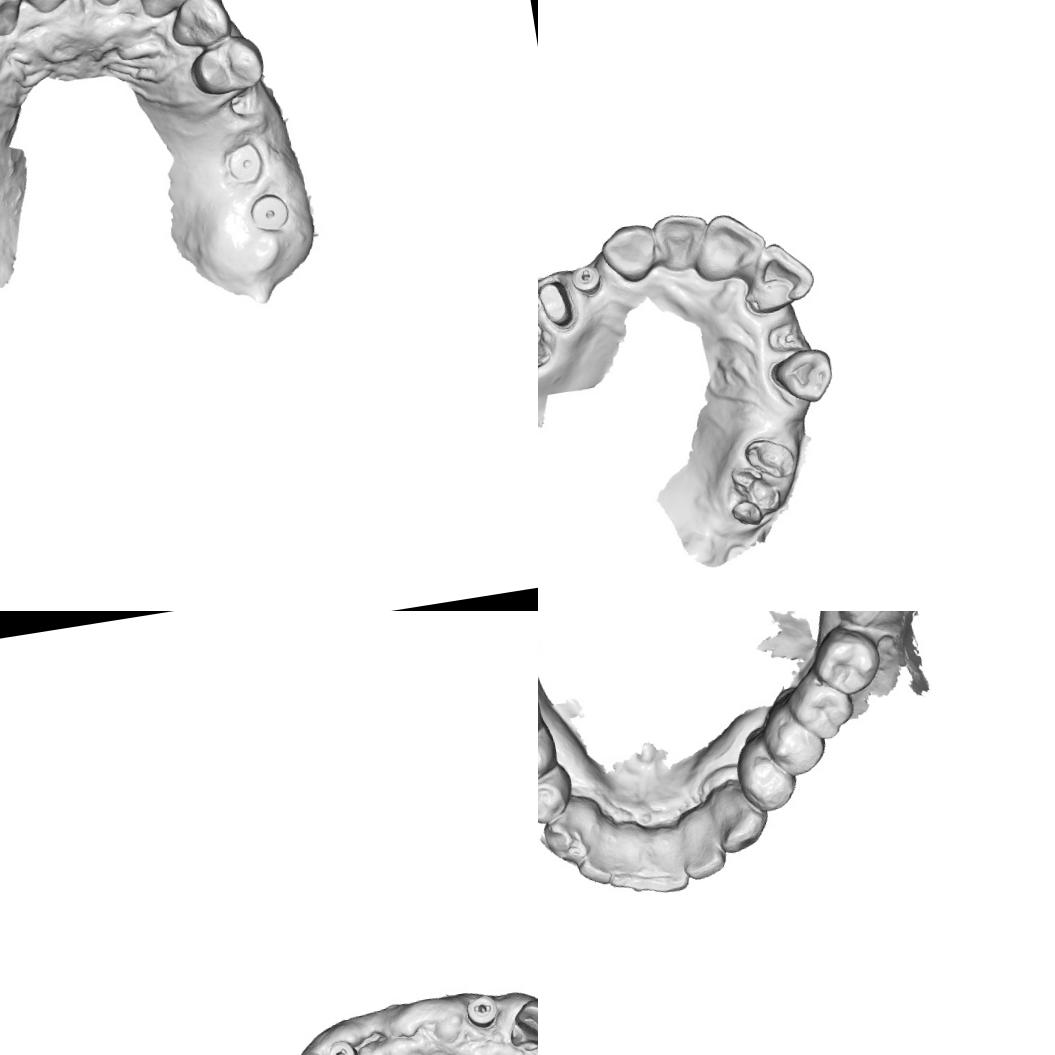canine: (706, 785, 771, 856), (768, 345, 838, 408), (538, 803, 601, 871), (597, 221, 661, 287), (164, 0, 235, 51), (504, 994, 538, 1052)
crown: (538, 277, 580, 334)
implant: (221, 136, 270, 186), (247, 188, 292, 238)
implant_minus: (464, 992, 500, 1030), (569, 262, 604, 300), (322, 1037, 360, 1055)
incisor: (736, 238, 818, 317), (688, 207, 770, 284), (651, 210, 714, 276), (642, 828, 692, 898), (677, 824, 730, 881), (606, 834, 652, 895), (572, 837, 618, 888), (131, 0, 199, 23), (7, 0, 85, 20), (0, 0, 32, 42)
molar: (808, 622, 887, 700), (782, 669, 857, 747)
premolar: (184, 29, 269, 102), (732, 740, 800, 818), (764, 706, 829, 781), (538, 772, 570, 829), (538, 734, 555, 789)
